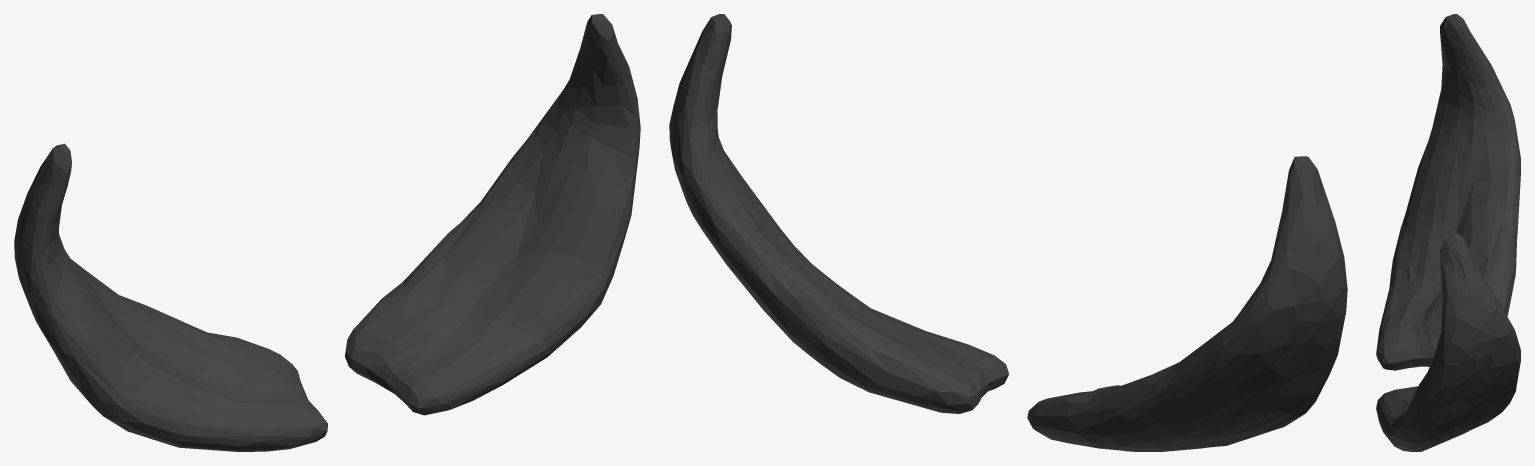
File: m_gluteus_superficialis.glb
The picture shows the model from 3 angles, left to right: view 1: azimuth 30°, elevation 25°; view 2: azimuth 150°, elevation 25°; view 3: azimuth 270°, elevation 25°; orthographic projection. The views are drawn at different scales.
Visible parts, largest first — view 1: m_gluteus_superficialis; view 2: m_gluteus_superficialis; view 3: m_gluteus_superficialis.
Boxes of the visible parts, <box> form: m_gluteus_superficialis: <box>14,14,640,451</box>; m_gluteus_superficialis: <box>669,14,1347,451</box>; m_gluteus_superficialis: <box>1376,14,1520,451</box>.
Bounding box in the file's own units: 0.00513 × 0.00259 × 0.00125.
1 material, 1 textured.
